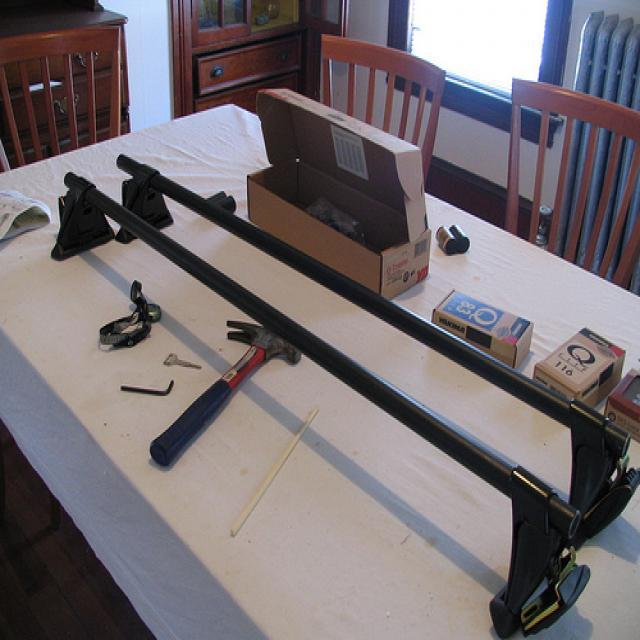hammer: (136, 304, 304, 482)
